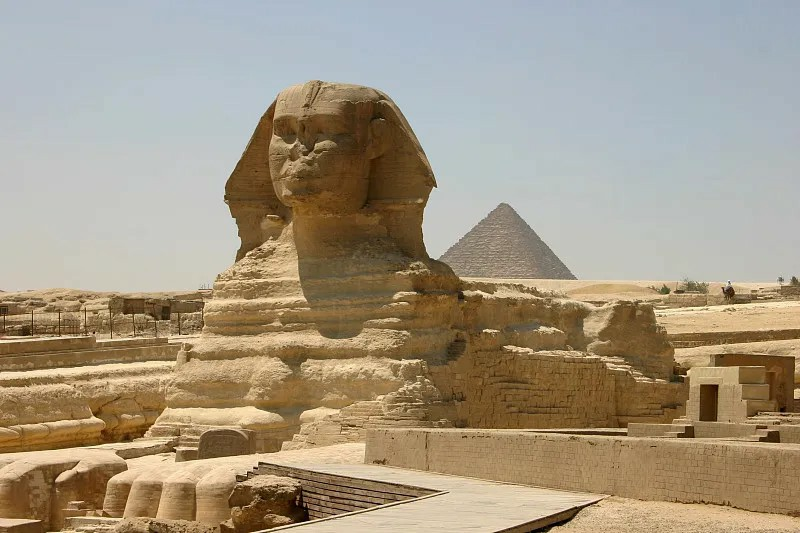Pyramid: (437, 204, 579, 280)
